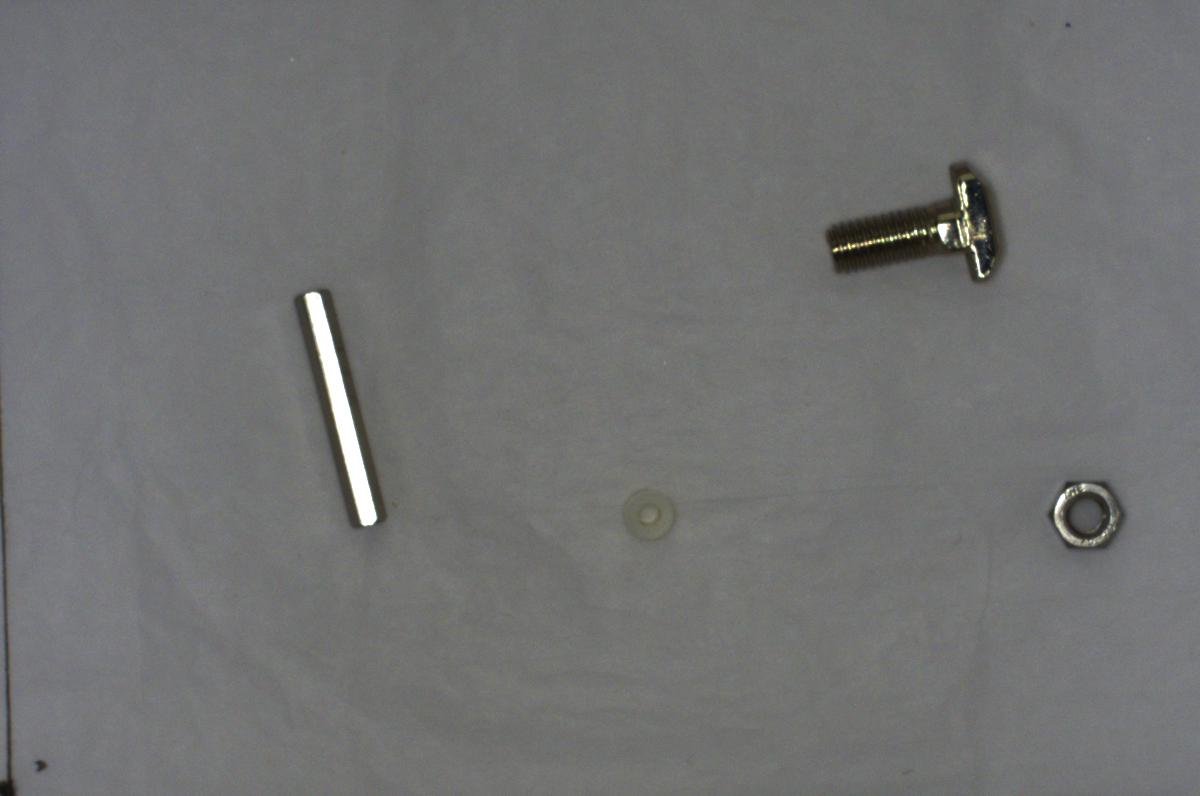Double hexagonal column: (282, 278, 395, 541)
Hexagon nut: (1041, 467, 1137, 554)
Plastic cushion pillar: (619, 476, 682, 547)
T-shaped screw: (817, 154, 1014, 294)
